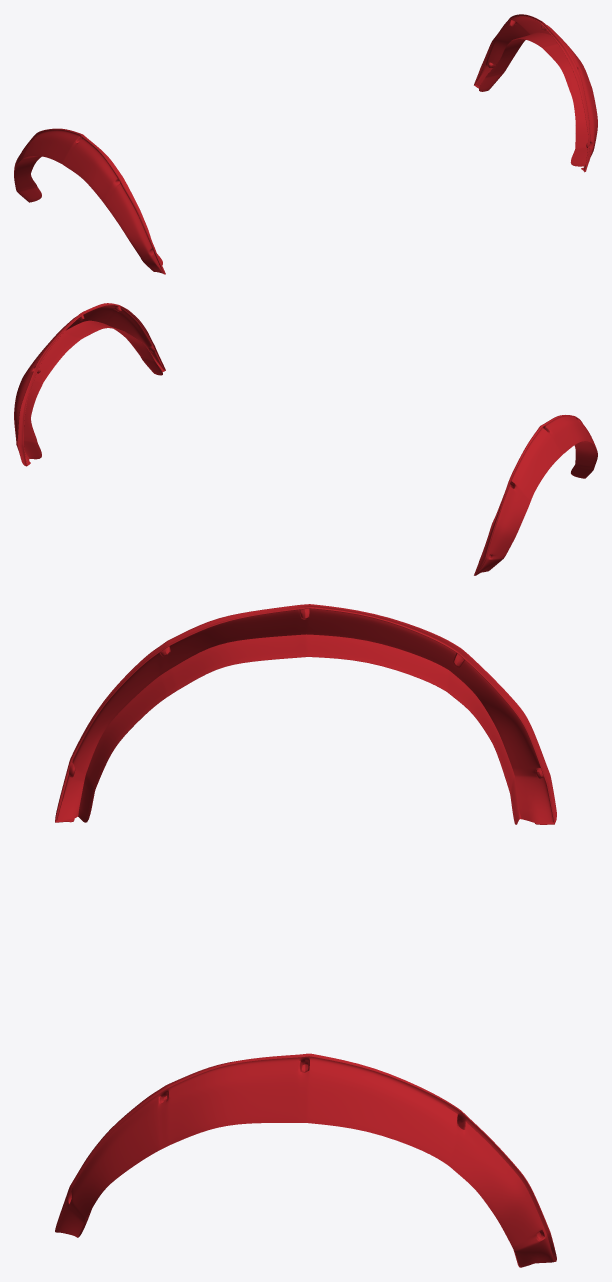
Rendered from standard.glb.
3 views of the same model, one above another, from view 1: azimuth 30°, elevation 25°; view 2: azimuth 150°, elevation 25°; view 3: azimuth 270°, elevation 25° (orthographic). The views are drawn at different scales.
Parts seen in each view (by area): view 1: Miata_Aero_RearFlare; view 2: Miata_Aero_RearFlare; view 3: Miata_Aero_RearFlare.
Boxes of the visible parts, x1,y1,x2,y2 form: Miata_Aero_RearFlare: (14, 14, 597, 274); Miata_Aero_RearFlare: (14, 303, 597, 575); Miata_Aero_RearFlare: (55, 604, 556, 1267).
Bounding box in the file's own units: 73.21 × 14.76 × 31.31.
